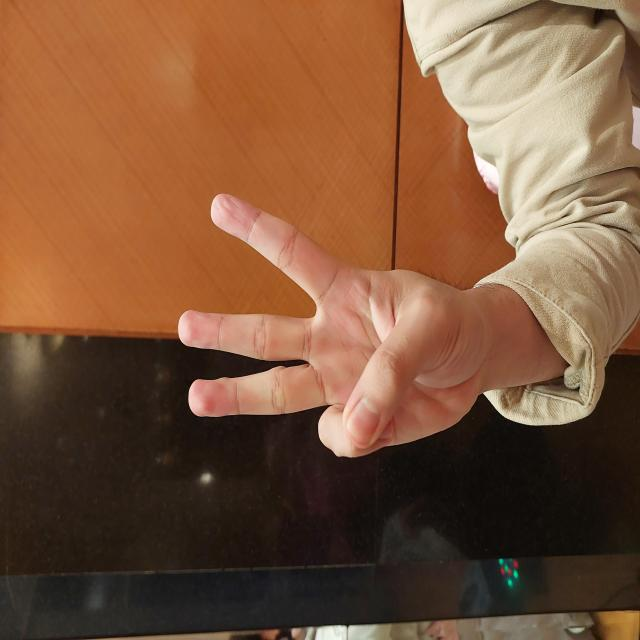W: (178, 176, 449, 491)
